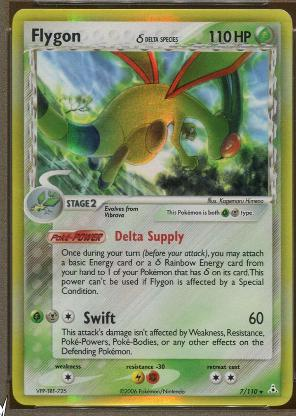Card: (9, 7, 293, 411)
